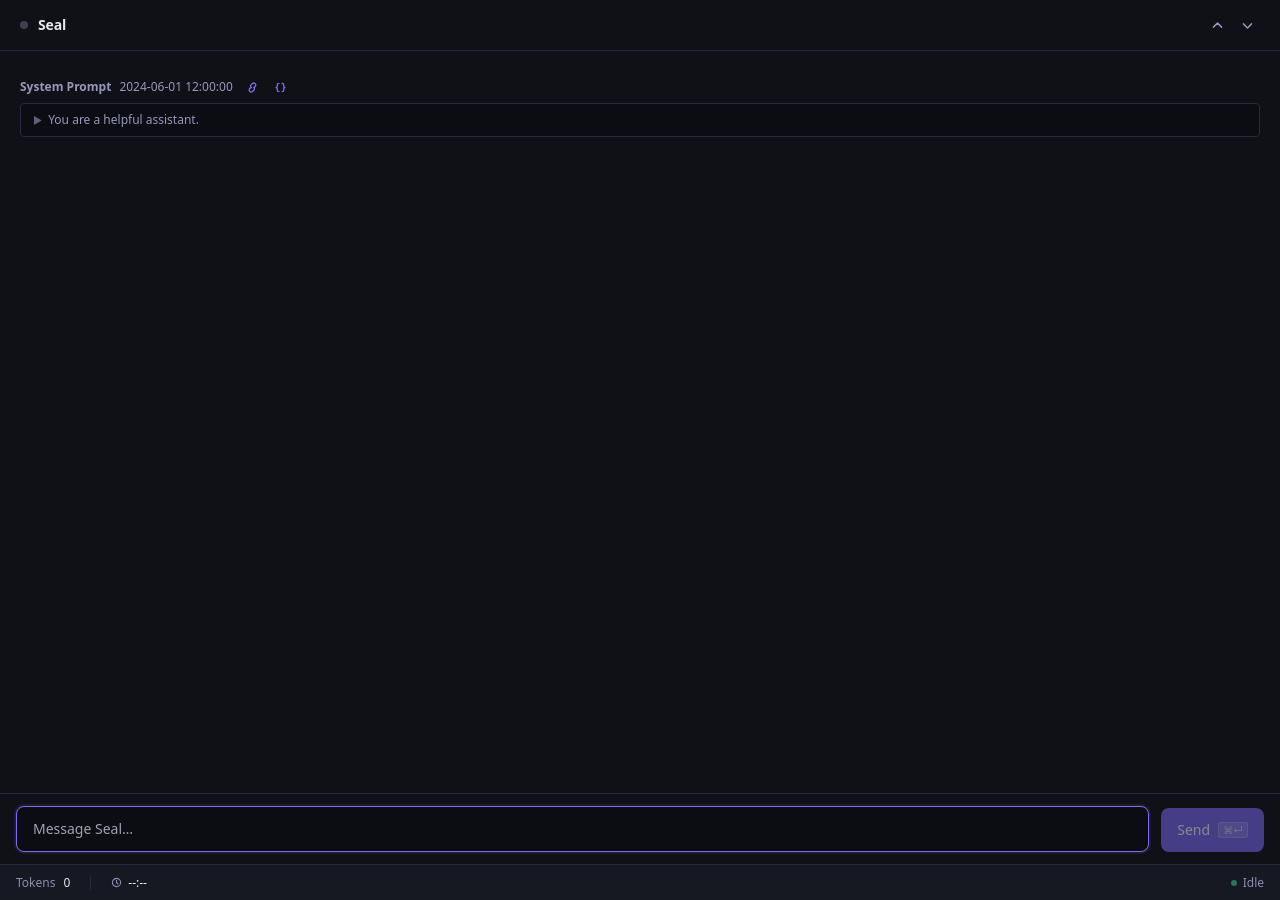
Test: ChatArea › System row with rawJson shows the "View raw JSON" button and opens the modal
The width and height of the screenshot is (1280, 900).
Note: Open the modal and verify the raw JSON (with input_schema) is shown.
Click the button named "View raw JSON (message)". click: coordinates (281, 87)
box: top-left (269, 75), bottom-right (293, 99)
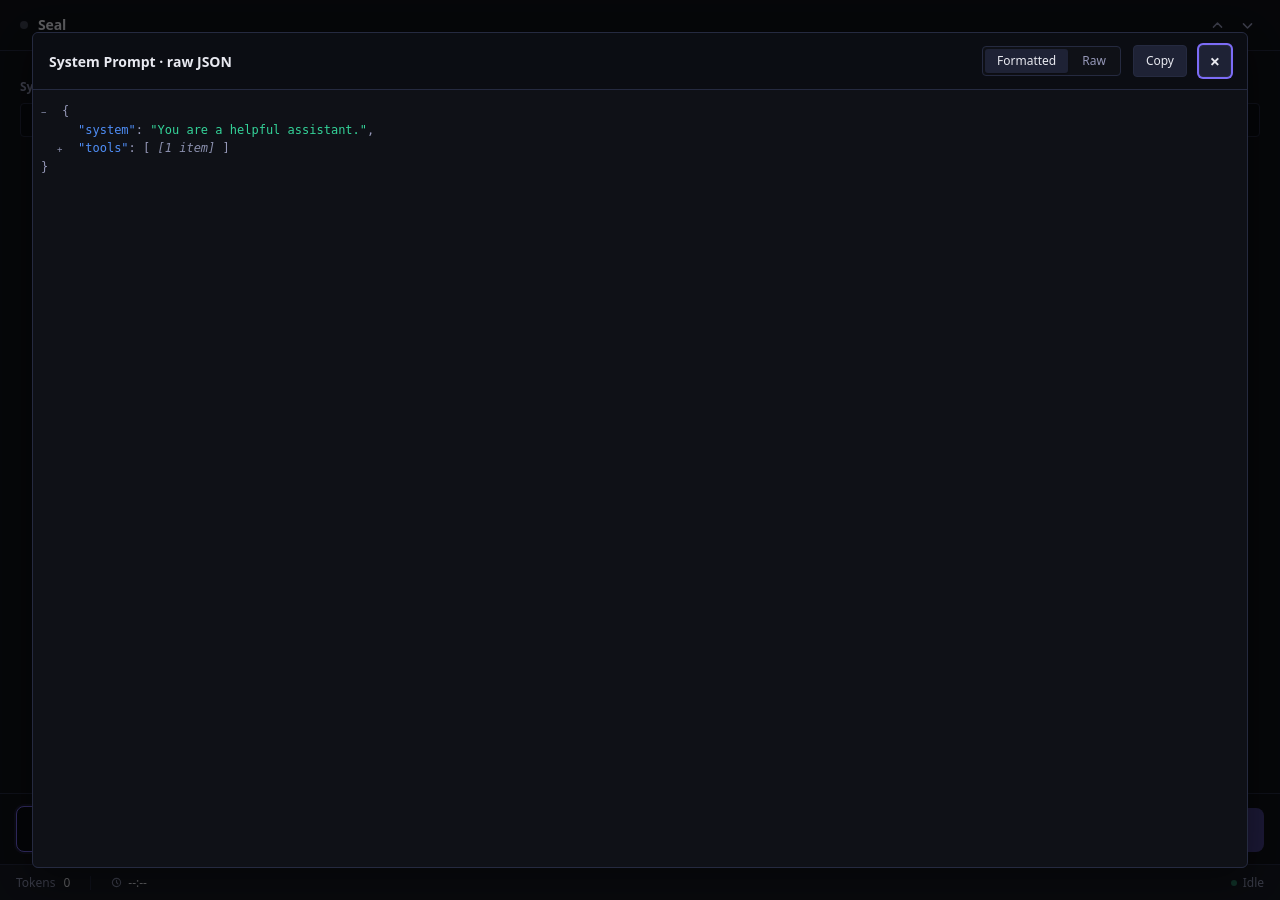
Now the dialog with test id "raw-json-modal" is shown
Now the text "\"system\"" is shown, box top-left (78, 123), bottom-right (136, 137)
Now the text "\"tools\"" is shown, box top-left (78, 141), bottom-right (129, 155)
